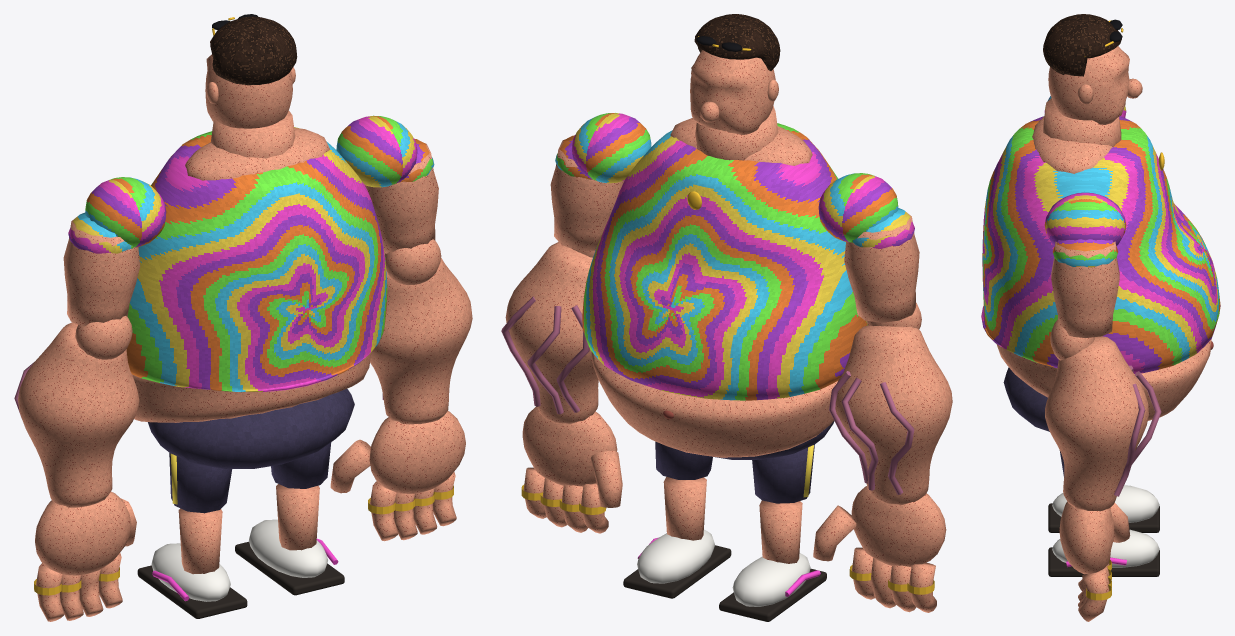
Rendered from c_lumps.glb.
3 renders of one model, left to right at view 1: azimuth 30°, elevation 25°; view 2: azimuth 150°, elevation 25°; view 3: azimuth 270°, elevation 25°, orthographic. The views are drawn at different scales.
Visible parts, largest first — view 1: part_spine, part_foreL, part_foreR, part_handR, part_handL, part_body, part_head, part_kneeR, part_kneeL, part_armL, part_arm, part_legL (+1 smaller); view 2: part_spine, part_foreL, part_foreR, part_handL, part_handR, part_head, part_kneeR, part_kneeL, part_armL, part_arm, part_legL, part_legR (+1 smaller); view 3: part_spine, part_foreR, part_head, part_arm, part_handR, part_kneeR, part_kneeL, part_body.
Boxes of the visible parts, x1=… form: part_spine: x1=85, y1=110, x2=417, y2=422; part_foreL: x1=14, y1=316, x2=139, y2=507; part_foreR: x1=370, y1=239, x2=472, y2=424; part_handR: x1=330, y1=411, x2=465, y2=541; part_handL: x1=34, y1=491, x2=136, y2=621; part_body: x1=148, y1=389, x2=354, y2=468; part_head: x1=205, y1=14, x2=297, y2=128; part_kneeR: x1=235, y1=484, x2=344, y2=595; part_kneeL: x1=137, y1=508, x2=247, y2=618; part_armL: x1=63, y1=212, x2=140, y2=326; part_arm: x1=365, y1=138, x2=438, y2=253; part_legL: x1=169, y1=453, x2=232, y2=513; part_spine: x1=572, y1=106, x2=898, y2=457; part_foreL: x1=829, y1=302, x2=952, y2=505; part_foreR: x1=501, y1=242, x2=598, y2=424; part_handL: x1=813, y1=486, x2=946, y2=612; part_handR: x1=521, y1=406, x2=622, y2=533; part_head: x1=690, y1=14, x2=780, y2=134; part_kneeR: x1=623, y1=477, x2=731, y2=598; part_kneeL: x1=719, y1=500, x2=826, y2=621; part_armL: x1=844, y1=208, x2=919, y2=322; part_arm: x1=550, y1=135, x2=624, y2=250; part_legL: x1=752, y1=444, x2=814, y2=503; part_legR: x1=655, y1=441, x2=712, y2=479; part_spine: x1=981, y1=96, x2=1220, y2=420; part_foreR: x1=1045, y1=319, x2=1161, y2=511; part_head: x1=1043, y1=14, x2=1142, y2=124; part_arm: x1=1051, y1=239, x2=1119, y2=337; part_handR: x1=1059, y1=501, x2=1130, y2=621; part_kneeR: x1=1048, y1=529, x2=1159, y2=576; part_kneeL: x1=1048, y1=485, x2=1159, y2=532; part_body: x1=1003, y1=367, x2=1049, y2=431.
Bounding box in the file's own units: 1.27 × 1.56 × 0.6436.
Materials: 14 (4 with a texture image).
